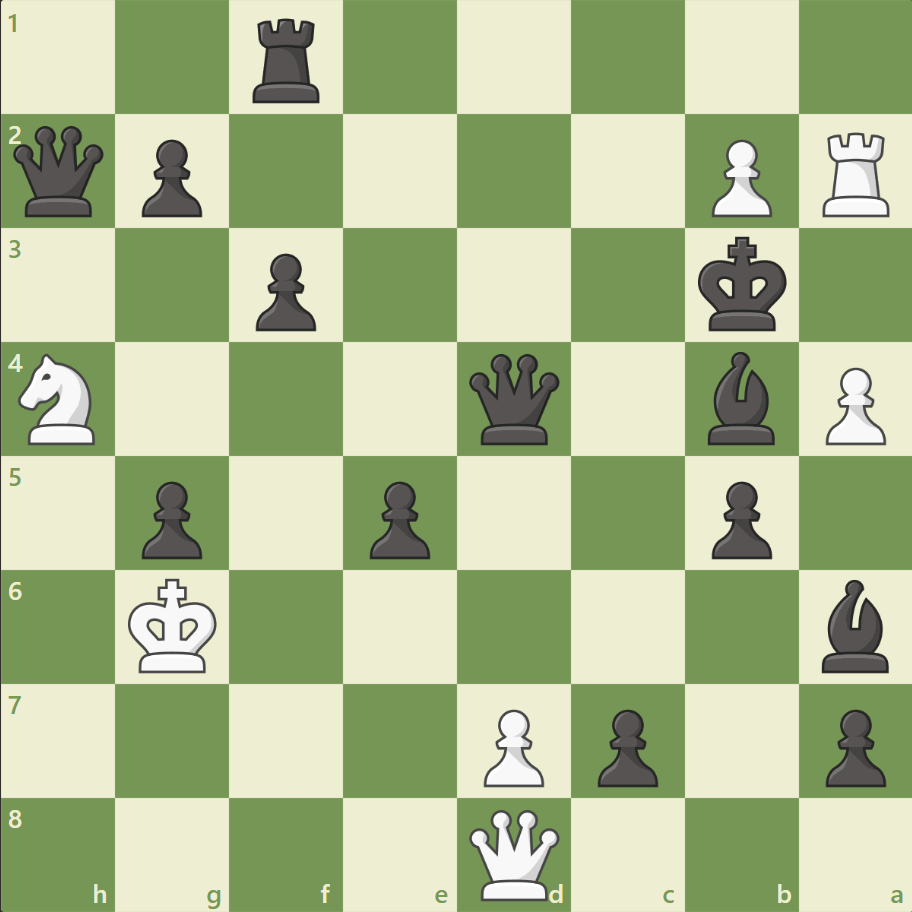K: (124, 571, 224, 679)
N: (11, 348, 108, 450)
P: (474, 700, 549, 791), (701, 132, 776, 223), (815, 359, 889, 450)
Q: (464, 804, 563, 903)
R: (814, 125, 897, 222)
b: (812, 574, 896, 676), (698, 347, 782, 449)
k: (692, 231, 792, 339)
p: (701, 473, 776, 564), (133, 473, 208, 564), (247, 246, 322, 337), (133, 132, 208, 223), (815, 700, 889, 791), (588, 700, 662, 791), (361, 473, 435, 564)
q: (464, 349, 563, 449), (10, 122, 109, 222)
r: (246, 12, 329, 109)
